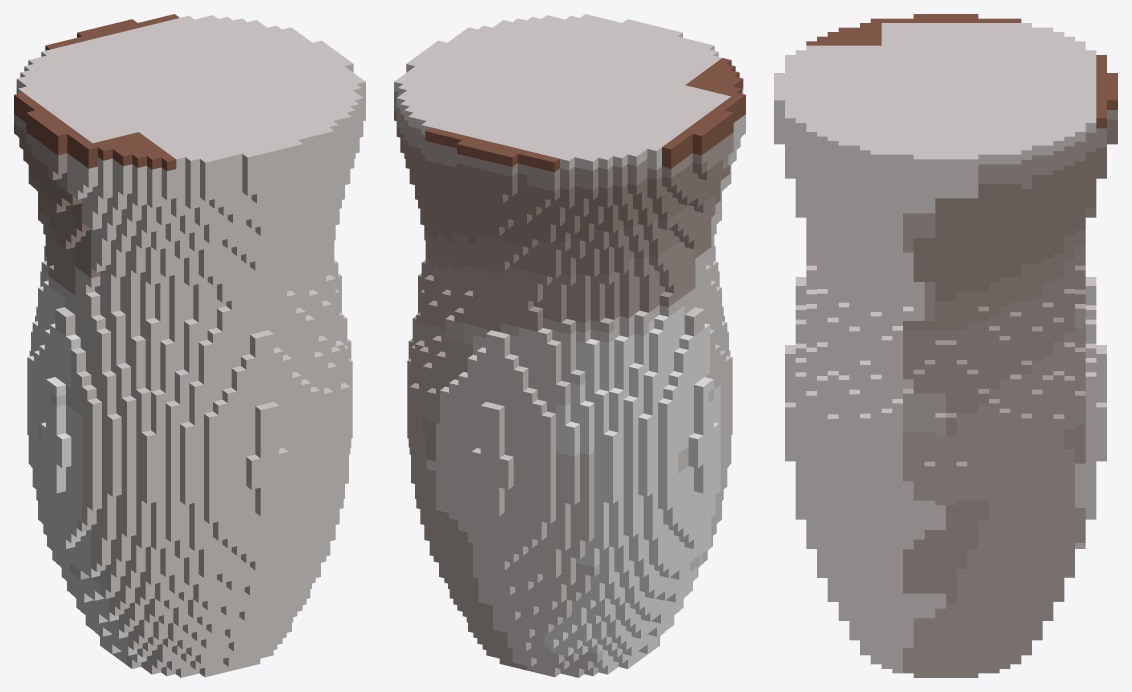
File: spring_spring.FBX
3 views of the same model, side by side, from view 1: azimuth 30°, elevation 25°; view 2: azimuth 150°, elevation 25°; view 3: azimuth 270°, elevation 25° (orthographic).
Visible parts, largest first — view 1: default041; view 2: default041; view 3: default041.
Part boxes in pixels (x1=…): default041: x1=14, y1=14, x2=365, y2=677; default041: x1=394, y1=14, x2=745, y2=677; default041: x1=774, y1=14, x2=1117, y2=677.
Size of the model in its own units: 559 by 996 by 559.
